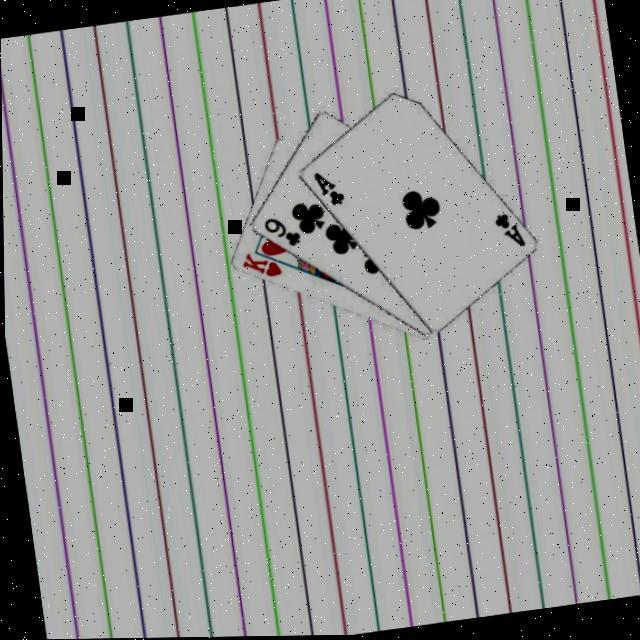9C: (260, 210, 304, 252)
AC: (310, 163, 349, 210), (489, 207, 528, 251)
KH: (238, 244, 285, 282)
